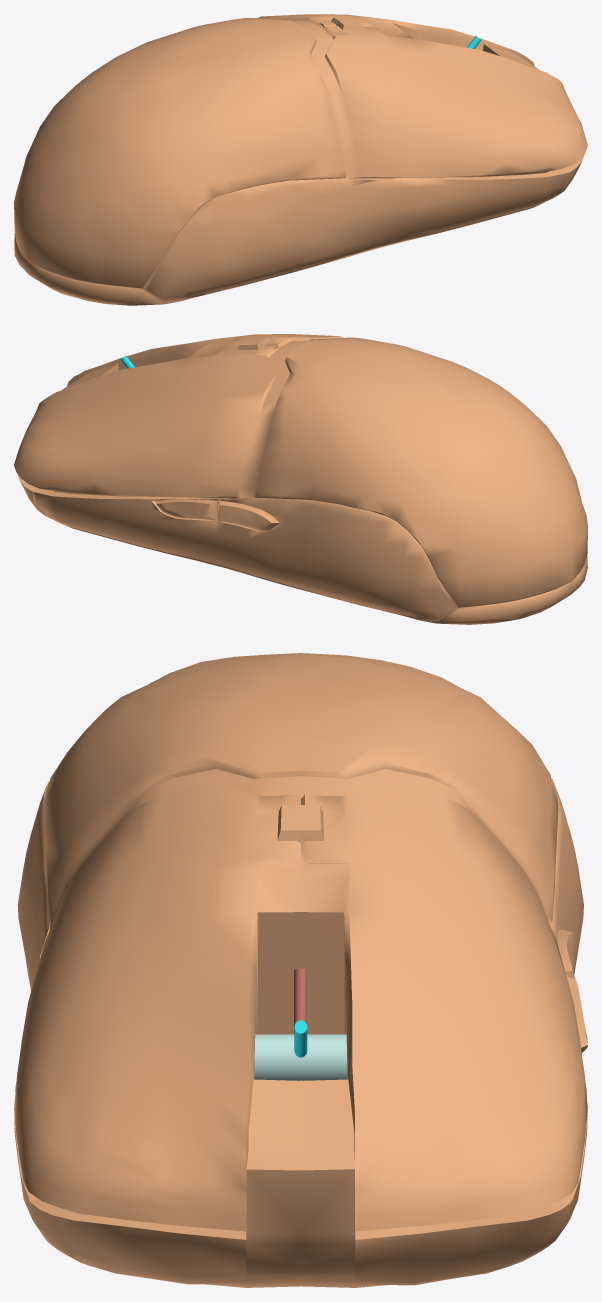
The picture shows the model from 3 angles, top to bottom: view 1: azimuth 30°, elevation 25°; view 2: azimuth 150°, elevation 25°; view 3: azimuth 270°, elevation 25°; orthographic projection. The views are drawn at different scales.
Visible parts, largest first — view 1: Object_2; view 2: Object_2; view 3: Object_2, Object_5.2437.
Part boxes in pixels (x1,y1,x2,y2): Object_2: (14, 14, 587, 305); Object_2: (14, 334, 587, 624); Object_2: (14, 653, 587, 1287); Object_5.2437: (254, 1034, 347, 1080).
Bounding box in the file's own units: 1 × 0.3517 × 0.5088.
